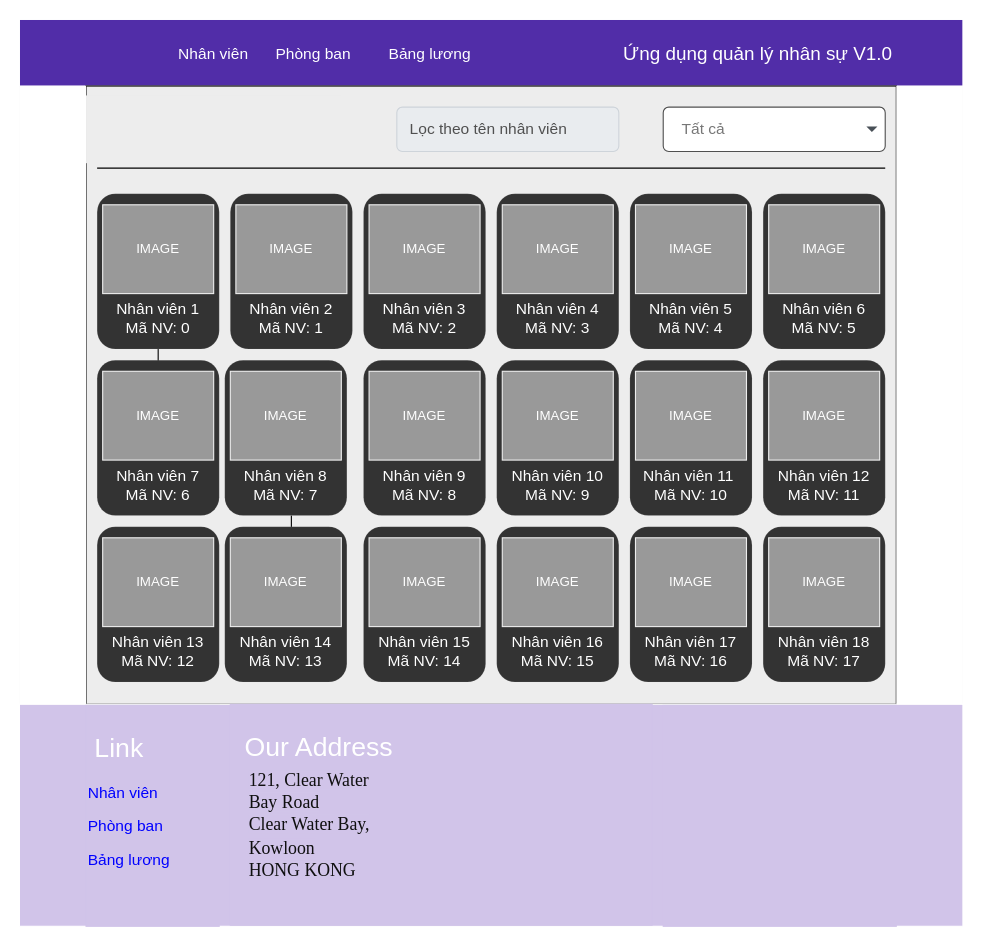
Some shapes in this 982 by 946 pixel diagram are drawn without their labels. The shapes that lost their labels are listed below. From the top down, each one's box as (x1, y1, x2, y2) in pixels, then its label:
(18, 18, 963, 86): LOGO
(85, 95, 341, 163): Danh sách nhân viên
(662, 704, 896, 926): Social - Icon
